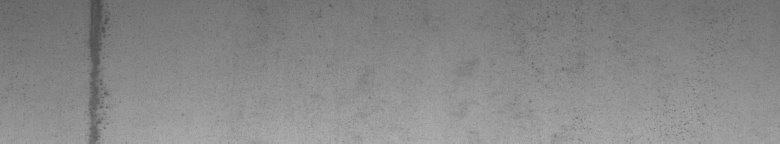hd: (76, 4, 111, 136)
